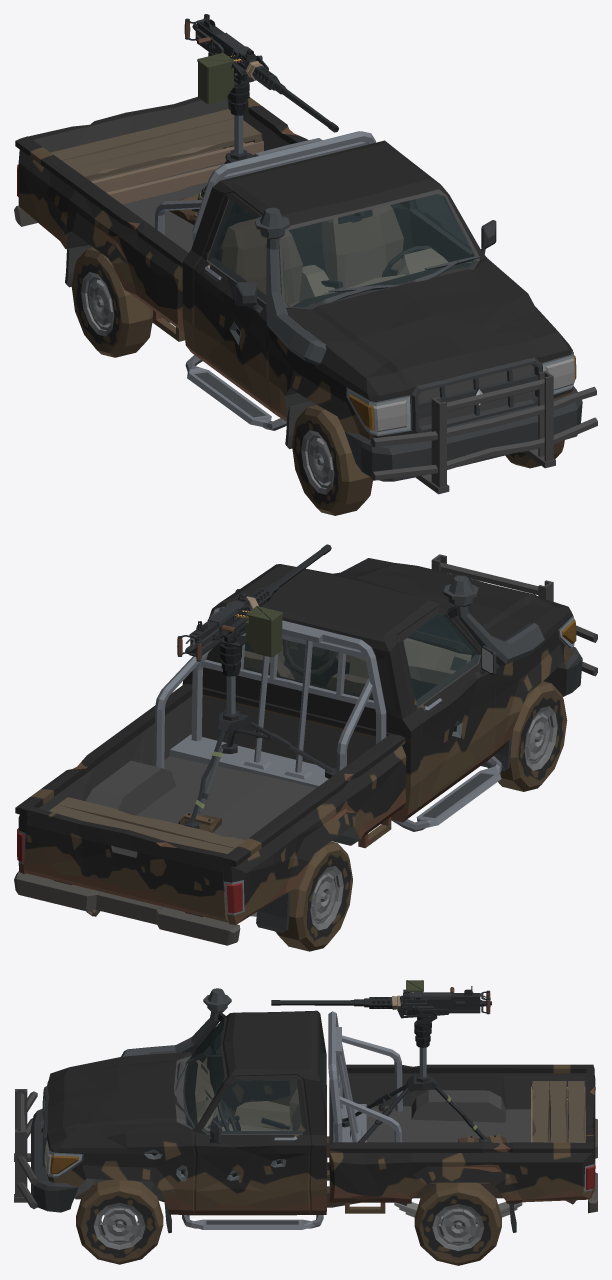
The model's file is SM_Veh_Pickup_Technical_01.fbx.
The picture shows the model from 3 angles, top to bottom: view 1: azimuth 30°, elevation 25°; view 2: azimuth 150°, elevation 25°; view 3: azimuth 270°, elevation 25°; orthographic projection. The views are drawn at different scales.
Visible parts, largest first — view 1: SM_Veh_Pickup_Technical_01, SM_Veh_Pickup_Technical_01_Glass, SM_Veh_Pickup_Technical_01_Wheel_fr, SM_Veh_Pickup_Technical_01_Wheel_rr, SM_Veh_Pickup_Technical_01_Gun, SM_Veh_Pickup_Technical_01_Gun_Mag; view 2: SM_Veh_Pickup_Technical_01, SM_Veh_Pickup_Technical_01_Glass, SM_Veh_Pickup_Technical_01_Wheel_rr, SM_Veh_Pickup_Technical_01_Wheel_fr, SM_Veh_Pickup_Technical_01_Gun, SM_Veh_Pickup_Technical_01_Gun_Mag, SM_Veh_Pickup_Technical_01_SteeringW, SM_Veh_Pickup_Technical_01_Gun_Base; view 3: SM_Veh_Pickup_Technical_01, SM_Veh_Pickup_Technical_01_Glass, SM_Veh_Pickup_Technical_01_Wheel_fl, SM_Veh_Pickup_Technical_01_Wheel_rl, SM_Veh_Pickup_Technical_01_Gun.
Boxes of the visible parts, box(x1,y1,x2,y2) form: SM_Veh_Pickup_Technical_01: box(14, 96, 597, 494); SM_Veh_Pickup_Technical_01_Glass: box(208, 194, 475, 307); SM_Veh_Pickup_Technical_01_Wheel_fr: box(292, 405, 372, 515); SM_Veh_Pickup_Technical_01_Wheel_rr: box(71, 247, 152, 357); SM_Veh_Pickup_Technical_01_Gun: box(184, 14, 338, 132); SM_Veh_Pickup_Technical_01_Gun_Mag: box(197, 52, 233, 104); SM_Veh_Pickup_Technical_01: box(14, 554, 597, 945); SM_Veh_Pickup_Technical_01_Glass: box(243, 614, 479, 706); SM_Veh_Pickup_Technical_01_Wheel_rr: box(275, 841, 352, 951); SM_Veh_Pickup_Technical_01_Wheel_fr: box(488, 681, 567, 791); SM_Veh_Pickup_Technical_01_Gun: box(177, 544, 331, 661); SM_Veh_Pickup_Technical_01_Gun_Mag: box(246, 606, 282, 657); SM_Veh_Pickup_Technical_01_SteeringW: box(283, 639, 337, 675); SM_Veh_Pickup_Technical_01_Gun_Base: box(220, 631, 247, 661); SM_Veh_Pickup_Technical_01: box(14, 988, 597, 1233); SM_Veh_Pickup_Technical_01_Glass: box(183, 1020, 325, 1134); SM_Veh_Pickup_Technical_01_Wheel_fl: box(76, 1180, 163, 1264); SM_Veh_Pickup_Technical_01_Wheel_rl: box(414, 1182, 501, 1265); SM_Veh_Pickup_Technical_01_Gun: box(271, 986, 491, 1018).
Size of the model in its own units: 236 by 264 by 587.
